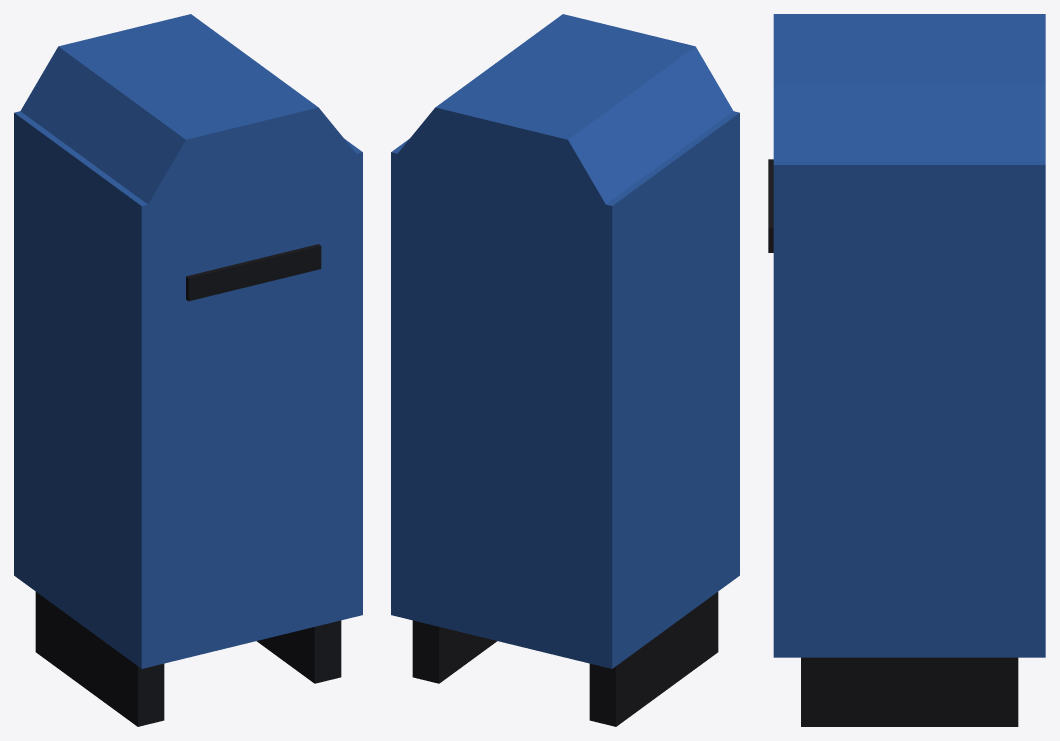
File: mailbox.glb
The picture shows the model from 3 angles, left to right: view 1: azimuth 30°, elevation 25°; view 2: azimuth 150°, elevation 25°; view 3: azimuth 270°, elevation 25°; orthographic projection. The views are drawn at different scales.
Parts seen in each view (by area): view 1: mailbox_Body; view 2: mailbox_Body; view 3: mailbox_Body.
Part boxes in pixels (x1=…): mailbox_Body: x1=14, y1=14, x2=362, y2=726; mailbox_Body: x1=391, y1=14, x2=739, y2=726; mailbox_Body: x1=768, y1=14, x2=1045, y2=726.
Size of the model in its own units: 0.5 by 1.27 by 0.51.
